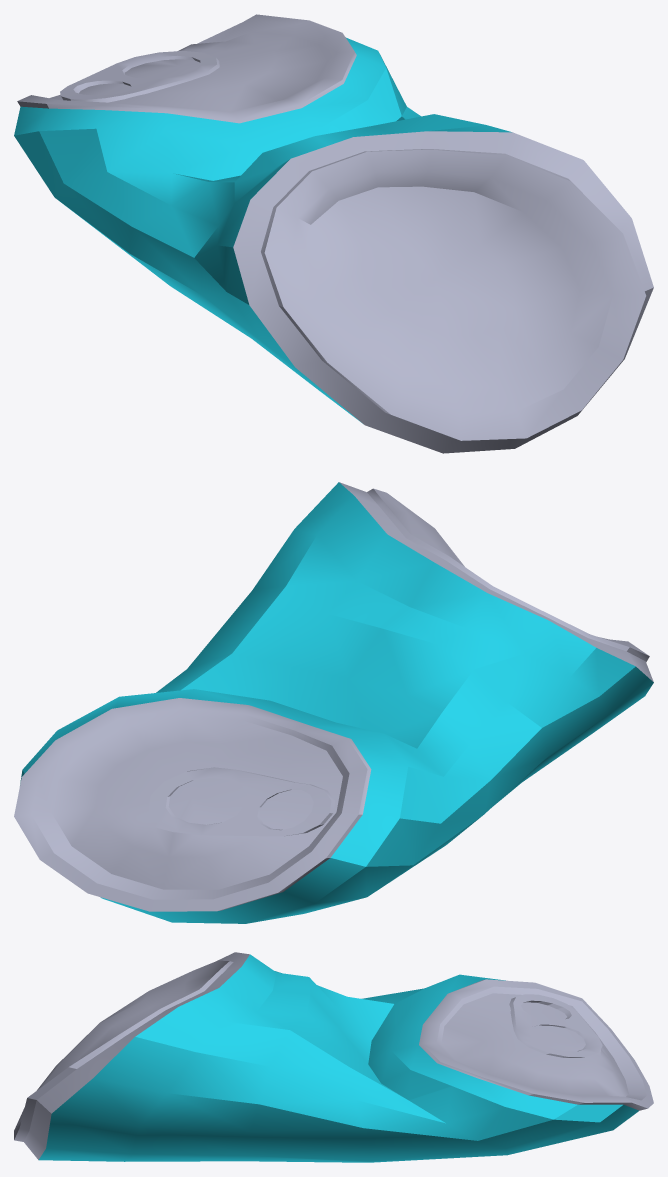
Rendered from Misc_BeverageCan_01_Crushed_A.fbx.
3 views of the same model, one above another, from view 1: azimuth 30°, elevation 25°; view 2: azimuth 150°, elevation 25°; view 3: azimuth 270°, elevation 25° (orthographic). The views are drawn at different scales.
Parts seen in each view (by area): view 1: Misc_BeverageCan_01_Crushed_A.001; view 2: Misc_BeverageCan_01_Crushed_A.001; view 3: Misc_BeverageCan_01_Crushed_A.001.
Boxes of the visible parts, left/top/right/bottom form: Misc_BeverageCan_01_Crushed_A.001: left=14, top=14, right=653, bottom=453; Misc_BeverageCan_01_Crushed_A.001: left=14, top=482, right=653, bottom=923; Misc_BeverageCan_01_Crushed_A.001: left=14, top=952, right=653, bottom=1162.
Bounding box in the file's own units: 0.0705 × 0.0444 × 0.1457.
